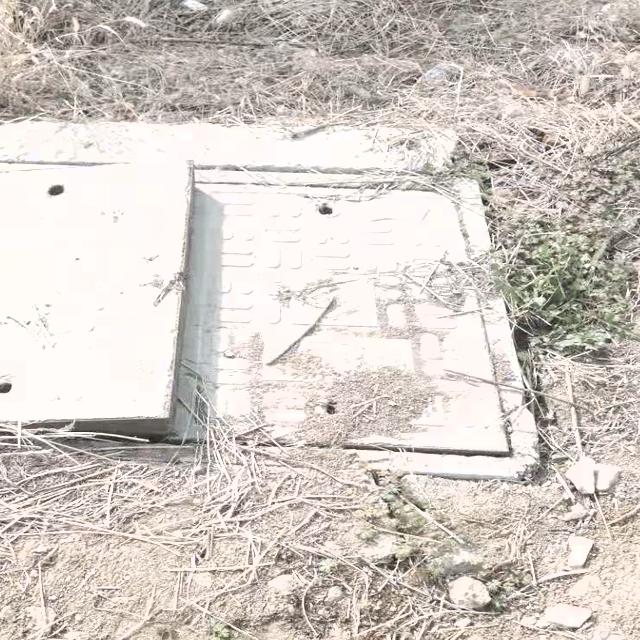uncovered: (0, 155, 539, 477)
